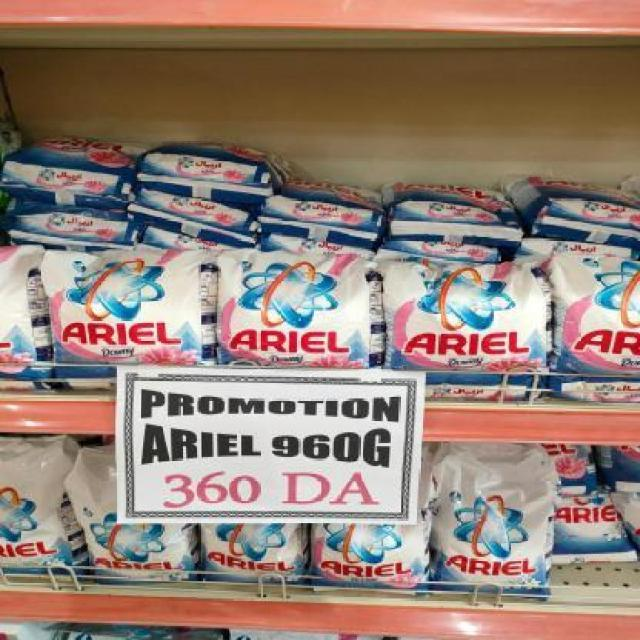Detergent: (42, 232, 214, 370), (212, 248, 386, 366), (388, 264, 550, 382), (546, 239, 640, 381), (499, 160, 639, 248), (386, 171, 526, 245), (0, 124, 135, 193), (143, 133, 283, 193), (269, 178, 389, 236), (132, 193, 248, 244), (9, 199, 132, 245), (259, 231, 373, 262)
